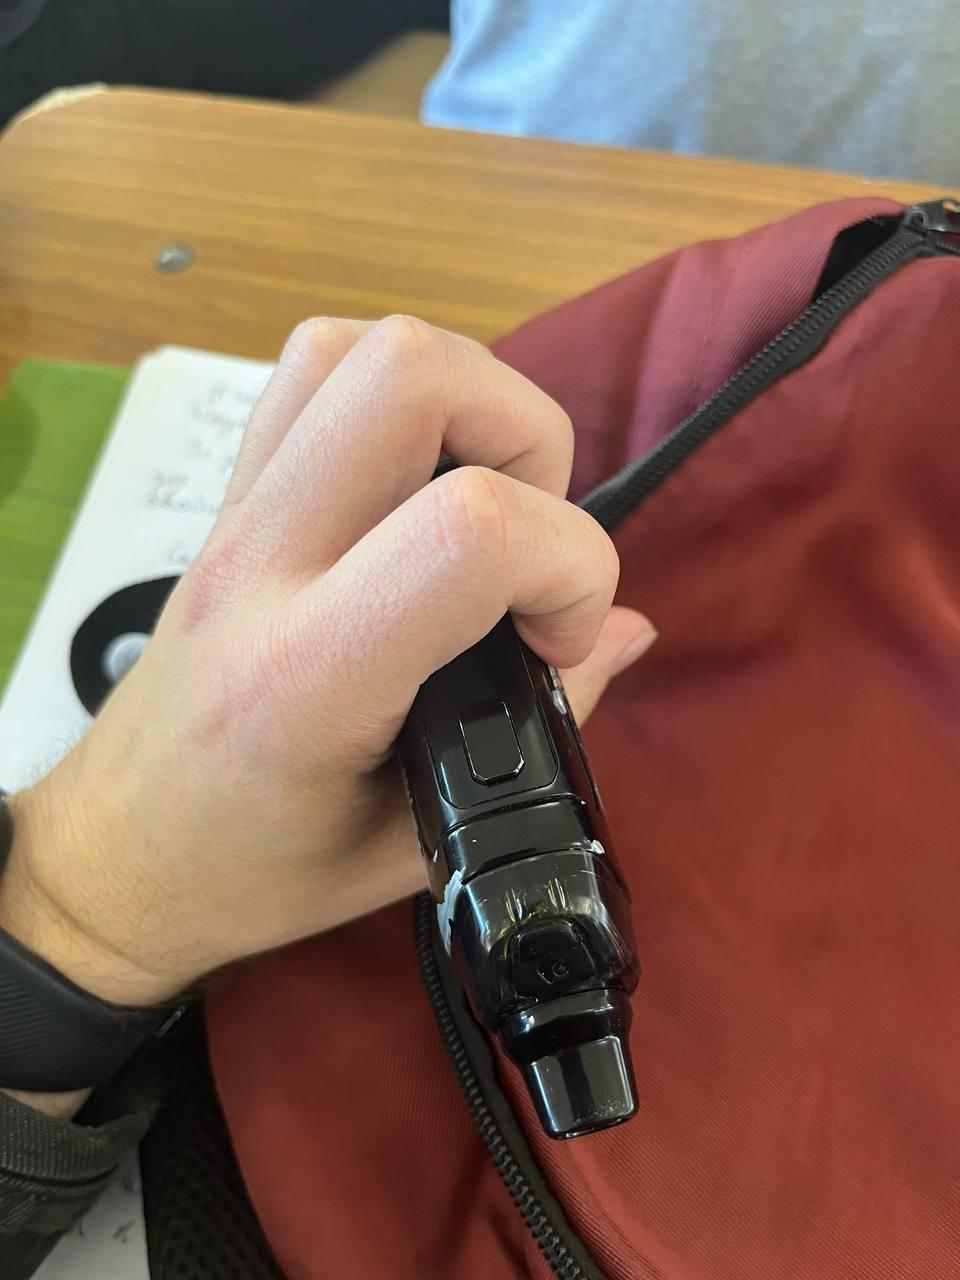Vape: (398, 616, 638, 1138), (478, 858, 487, 869)
